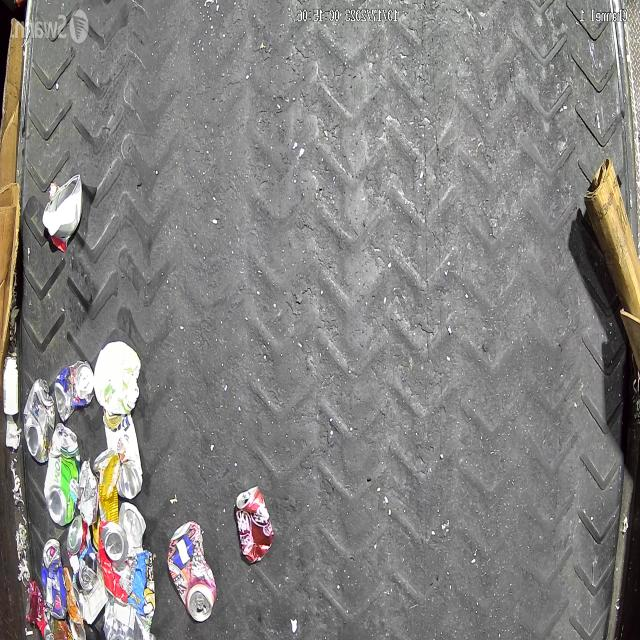can: (168, 521, 217, 623), (44, 423, 80, 527), (104, 408, 144, 501), (99, 521, 137, 606), (235, 486, 274, 566), (93, 448, 120, 552), (23, 379, 55, 464), (55, 360, 94, 423), (41, 540, 66, 620), (103, 600, 151, 640), (26, 580, 55, 640), (67, 515, 93, 574), (119, 502, 146, 554), (75, 556, 98, 594)
